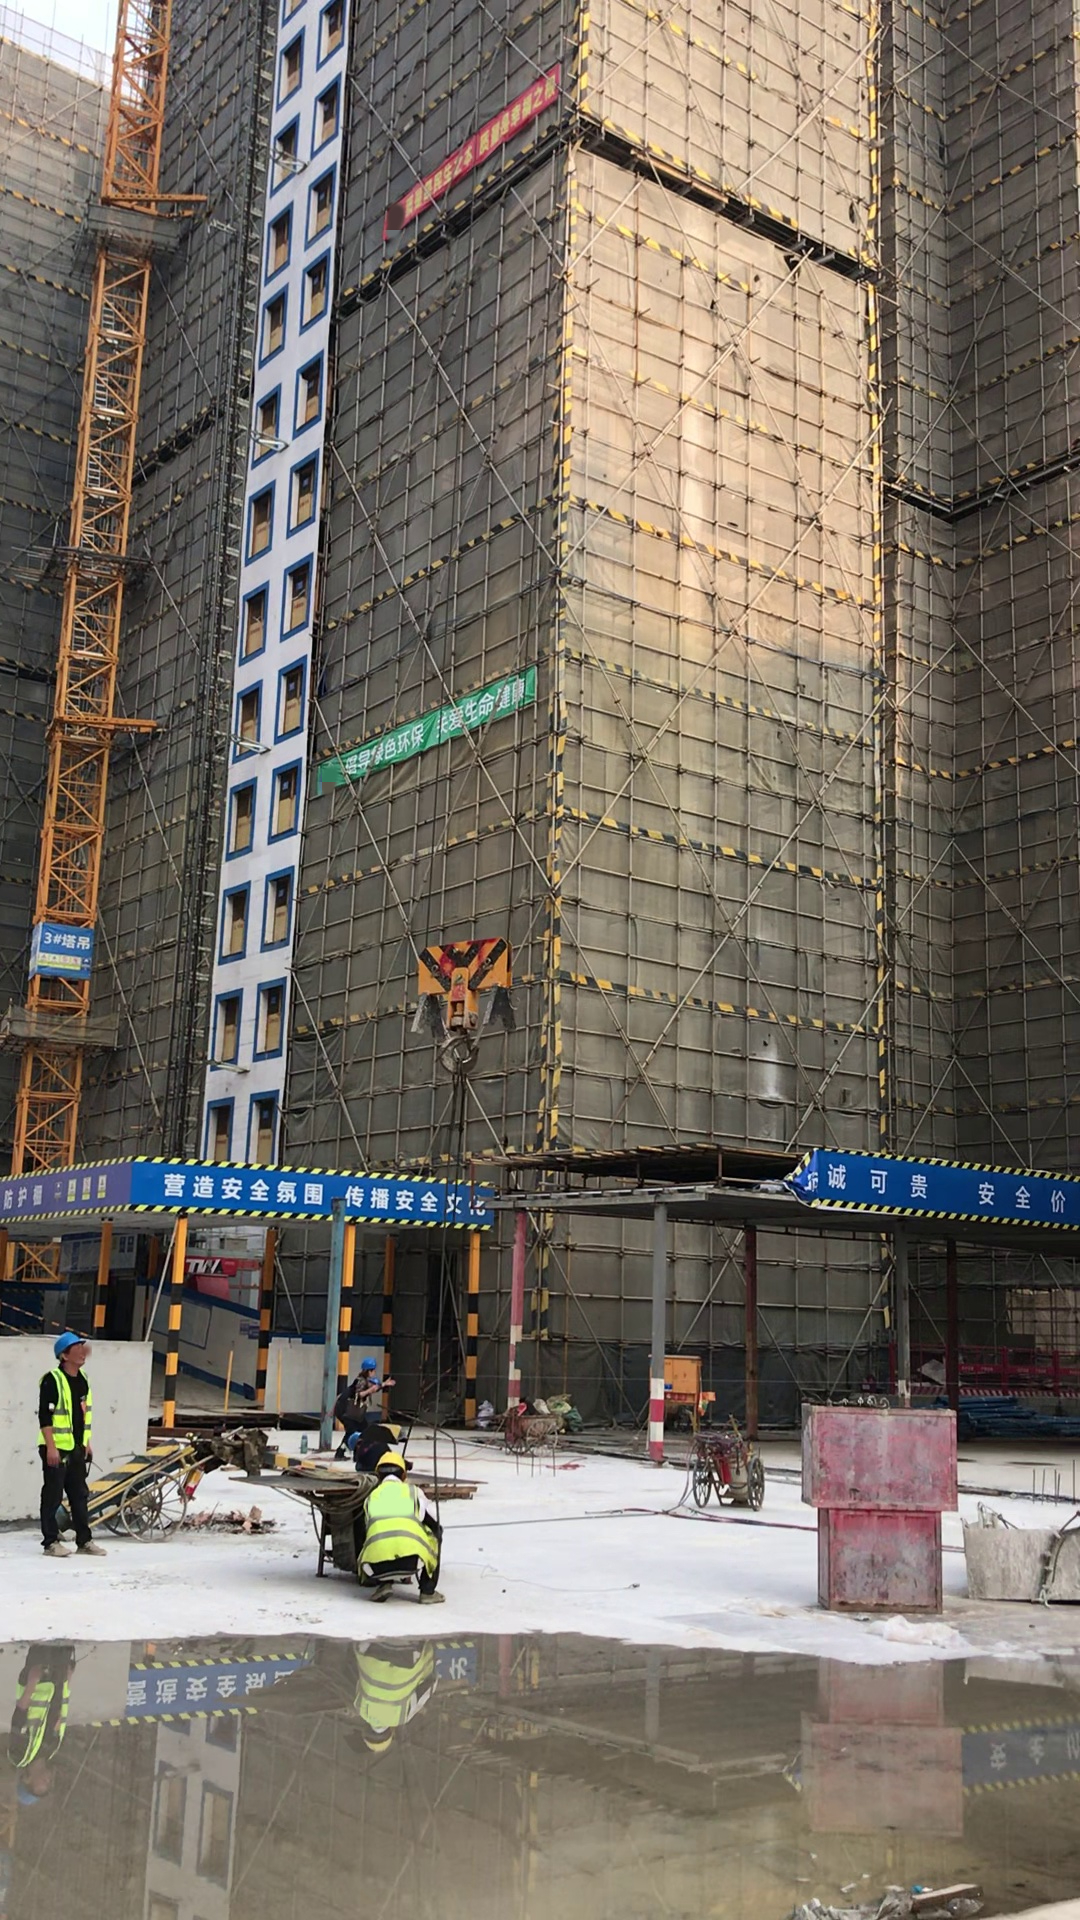ebox: (655, 1353, 702, 1404)
fence: (888, 1335, 1076, 1397)
handcart: (477, 1404, 567, 1456)
helmet: (48, 1331, 89, 1358), (377, 1452, 410, 1471), (359, 1356, 380, 1369)
hook: (397, 932, 520, 1056)
hopper: (957, 1503, 1080, 1607)
person: (21, 1333, 122, 1562), (353, 1451, 456, 1608), (323, 1350, 417, 1462)
slogan: (323, 666, 535, 795), (818, 1140, 1080, 1234), (397, 68, 557, 223), (145, 1157, 484, 1228), (1, 1155, 153, 1232)
vest: (353, 1485, 442, 1575), (37, 1367, 95, 1450)
